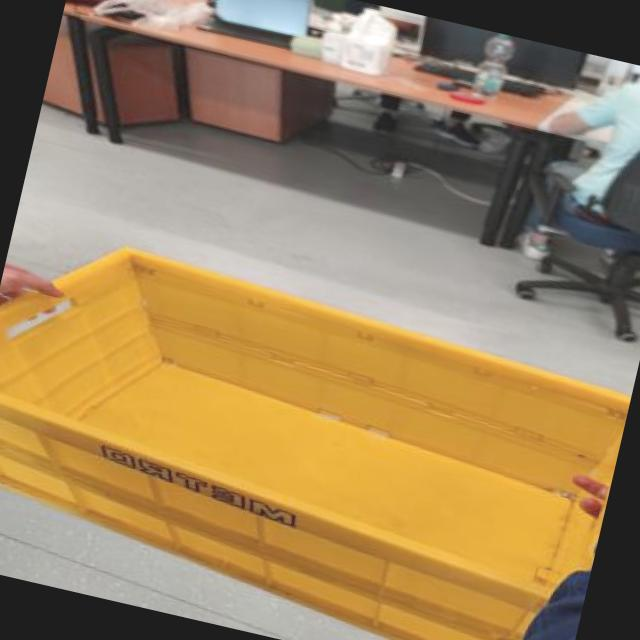box: (0, 217, 639, 640)
